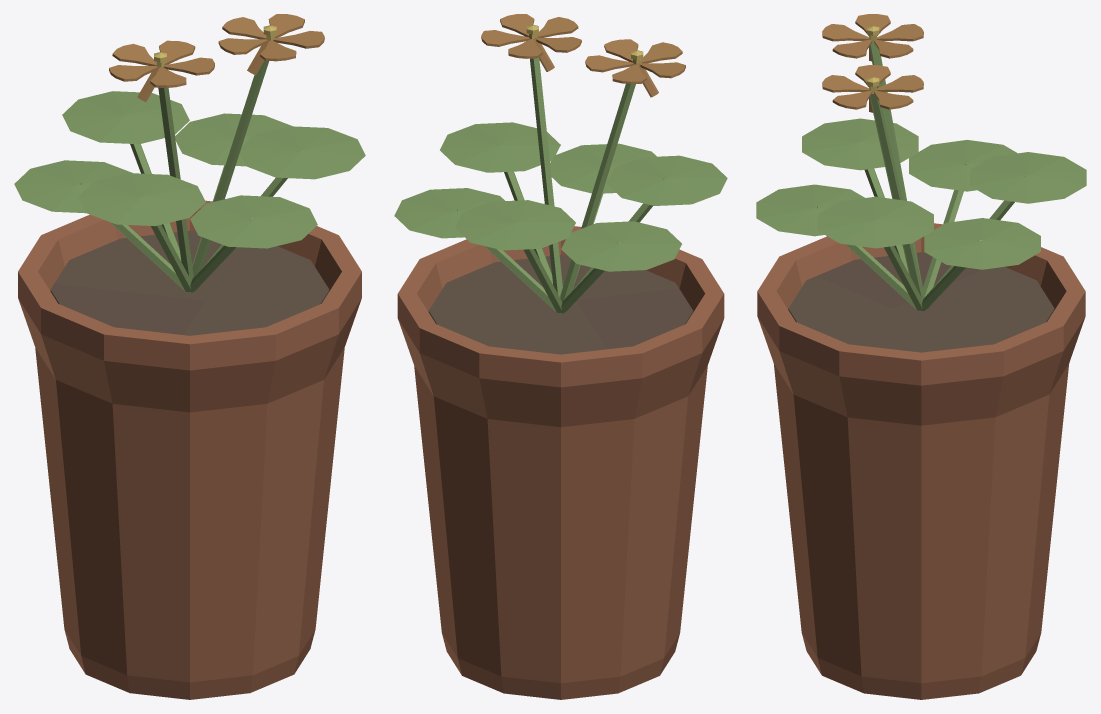
Rendered from nasturtium.glb.
3 renders of one model, left to right at view 1: azimuth 30°, elevation 25°; view 2: azimuth 150°, elevation 25°; view 3: azimuth 270°, elevation 25°, orthographic. The views are drawn at different scales.
Visible parts, largest first — view 1: nasturtium/review-terra-vessel, nasturtium/review-rooted-soil, nasturtium/peltate-round-leaf-002, nasturtium/peltate-round-leaf-012, nasturtium/peltate-round-leaf-004, nasturtium/peltate-round-leaf-008, nasturtium/peltate-round-leaf-010, nasturtium/peltate-round-leaf-006, nasturtium/petiole-022, nasturtium/petiole-013, nasturtium/petiole-009, nasturtium/petiole-011 (+10 smaller); view 2: nasturtium/review-terra-vessel, nasturtium/review-rooted-soil, nasturtium/peltate-round-leaf-008, nasturtium/peltate-round-leaf-012, nasturtium/peltate-round-leaf-010, nasturtium/peltate-round-leaf-004, nasturtium/peltate-round-leaf-006, nasturtium/peltate-round-leaf-002, nasturtium/petiole-022, nasturtium/petiole-013, nasturtium/petiole-005, nasturtium/petiole-007 (+10 smaller); view 3: nasturtium/review-terra-vessel, nasturtium/review-rooted-soil, nasturtium/peltate-round-leaf-008, nasturtium/peltate-round-leaf-004, nasturtium/peltate-round-leaf-006, nasturtium/peltate-round-leaf-012, nasturtium/peltate-round-leaf-002, nasturtium/peltate-round-leaf-010, nasturtium/petiole-022, nasturtium/petiole-013, nasturtium/petiole-001, nasturtium/petiole-009 (+6 smaller).
Part boxes in pixels (<box>): nasturtium/review-terra-vessel: <box>18,200,361,699</box>; nasturtium/review-rooted-soil: <box>50,230,329,335</box>; nasturtium/peltate-round-leaf-002: <box>190,195,317,248</box>; nasturtium/peltate-round-leaf-012: <box>78,173,205,226</box>; nasturtium/peltate-round-leaf-004: <box>239,126,365,179</box>; nasturtium/peltate-round-leaf-008: <box>62,91,189,144</box>; nasturtium/peltate-round-leaf-010: <box>14,160,132,213</box>; nasturtium/peltate-round-leaf-006: <box>175,113,292,166</box>; nasturtium/petiole-022: <box>192,60,268,277</box>; nasturtium/petiole-013: <box>158,87,193,280</box>; nasturtium/petiole-009: <box>80,183,184,290</box>; nasturtium/petiole-011: <box>141,195,191,291</box>; nasturtium/review-terra-vessel: <box>397,226,724,699</box>; nasturtium/review-rooted-soil: <box>428,255,693,354</box>; nasturtium/peltate-round-leaf-008: <box>455,200,575,250</box>; nasturtium/peltate-round-leaf-012: <box>606,155,727,205</box>; nasturtium/peltate-round-leaf-010: <box>561,221,681,271</box>; nasturtium/peltate-round-leaf-004: <box>440,122,560,172</box>; nasturtium/peltate-round-leaf-006: <box>394,188,504,238</box>; nasturtium/peltate-round-leaf-002: <box>550,143,656,193</box>; nasturtium/petiole-022: <box>530,57,562,297</box>; nasturtium/petiole-013: <box>560,64,635,301</box>; nasturtium/petiole-005: <box>457,209,556,311</box>; nasturtium/petiole-007: <box>515,221,562,312</box>; nasturtium/review-terra-vessel: <box>757,223,1085,699</box>; nasturtium/review-rooted-soil: <box>788,252,1054,352</box>; nasturtium/peltate-round-leaf-008: <box>970,152,1086,203</box>; nasturtium/peltate-round-leaf-004: <box>817,196,933,248</box>; nasturtium/peltate-round-leaf-006: <box>924,218,1040,269</box>; nasturtium/peltate-round-leaf-012: <box>802,118,918,170</box>; nasturtium/peltate-round-leaf-002: <box>756,184,864,236</box>; nasturtium/peltate-round-leaf-010: <box>909,140,1017,191</box>; nasturtium/petiole-022: <box>870,92,924,299</box>; nasturtium/petiole-013: <box>869,41,924,296</box>; nasturtium/petiole-001: <box>817,206,916,309</box>; nasturtium/petiole-009: <box>923,164,967,297</box>.
Size of the model in its own units: 0.19 by 0.3827 by 0.1911.
Materials: 5 (5 with a texture image).
